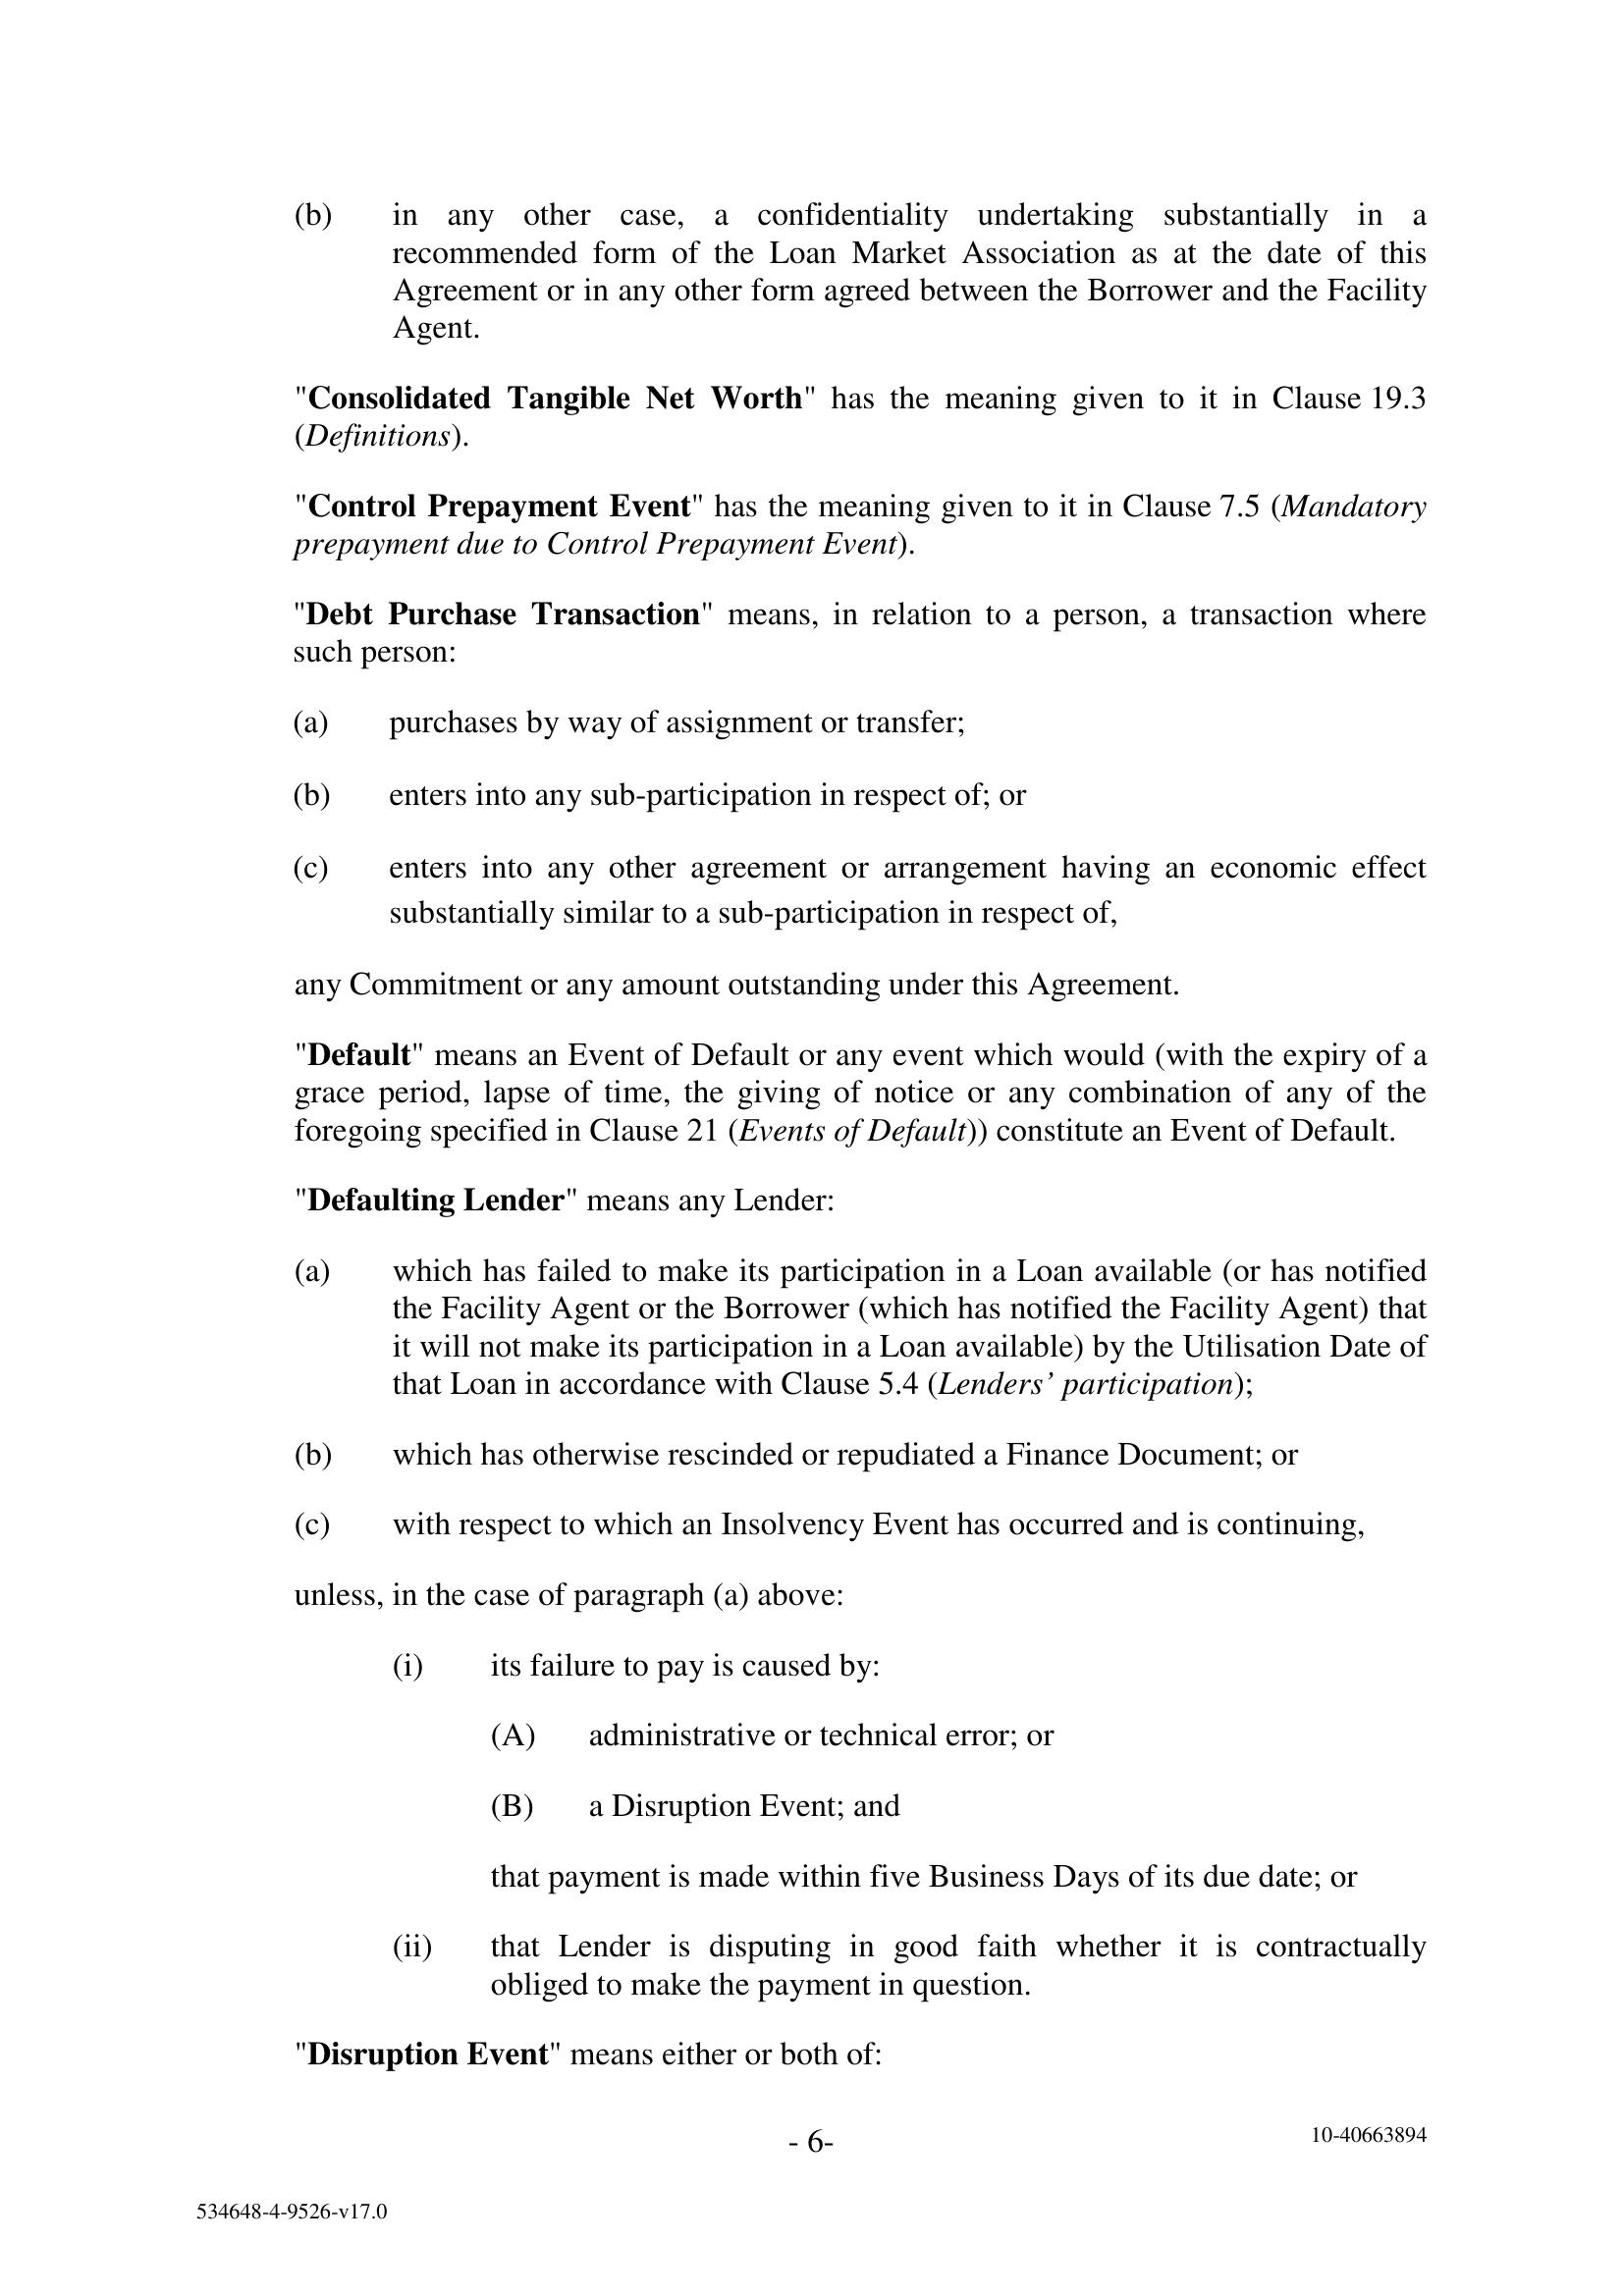pageno: (734, 2091, 894, 2208)
tag: (84, 2154, 490, 2270), (1179, 2078, 1539, 2194)
